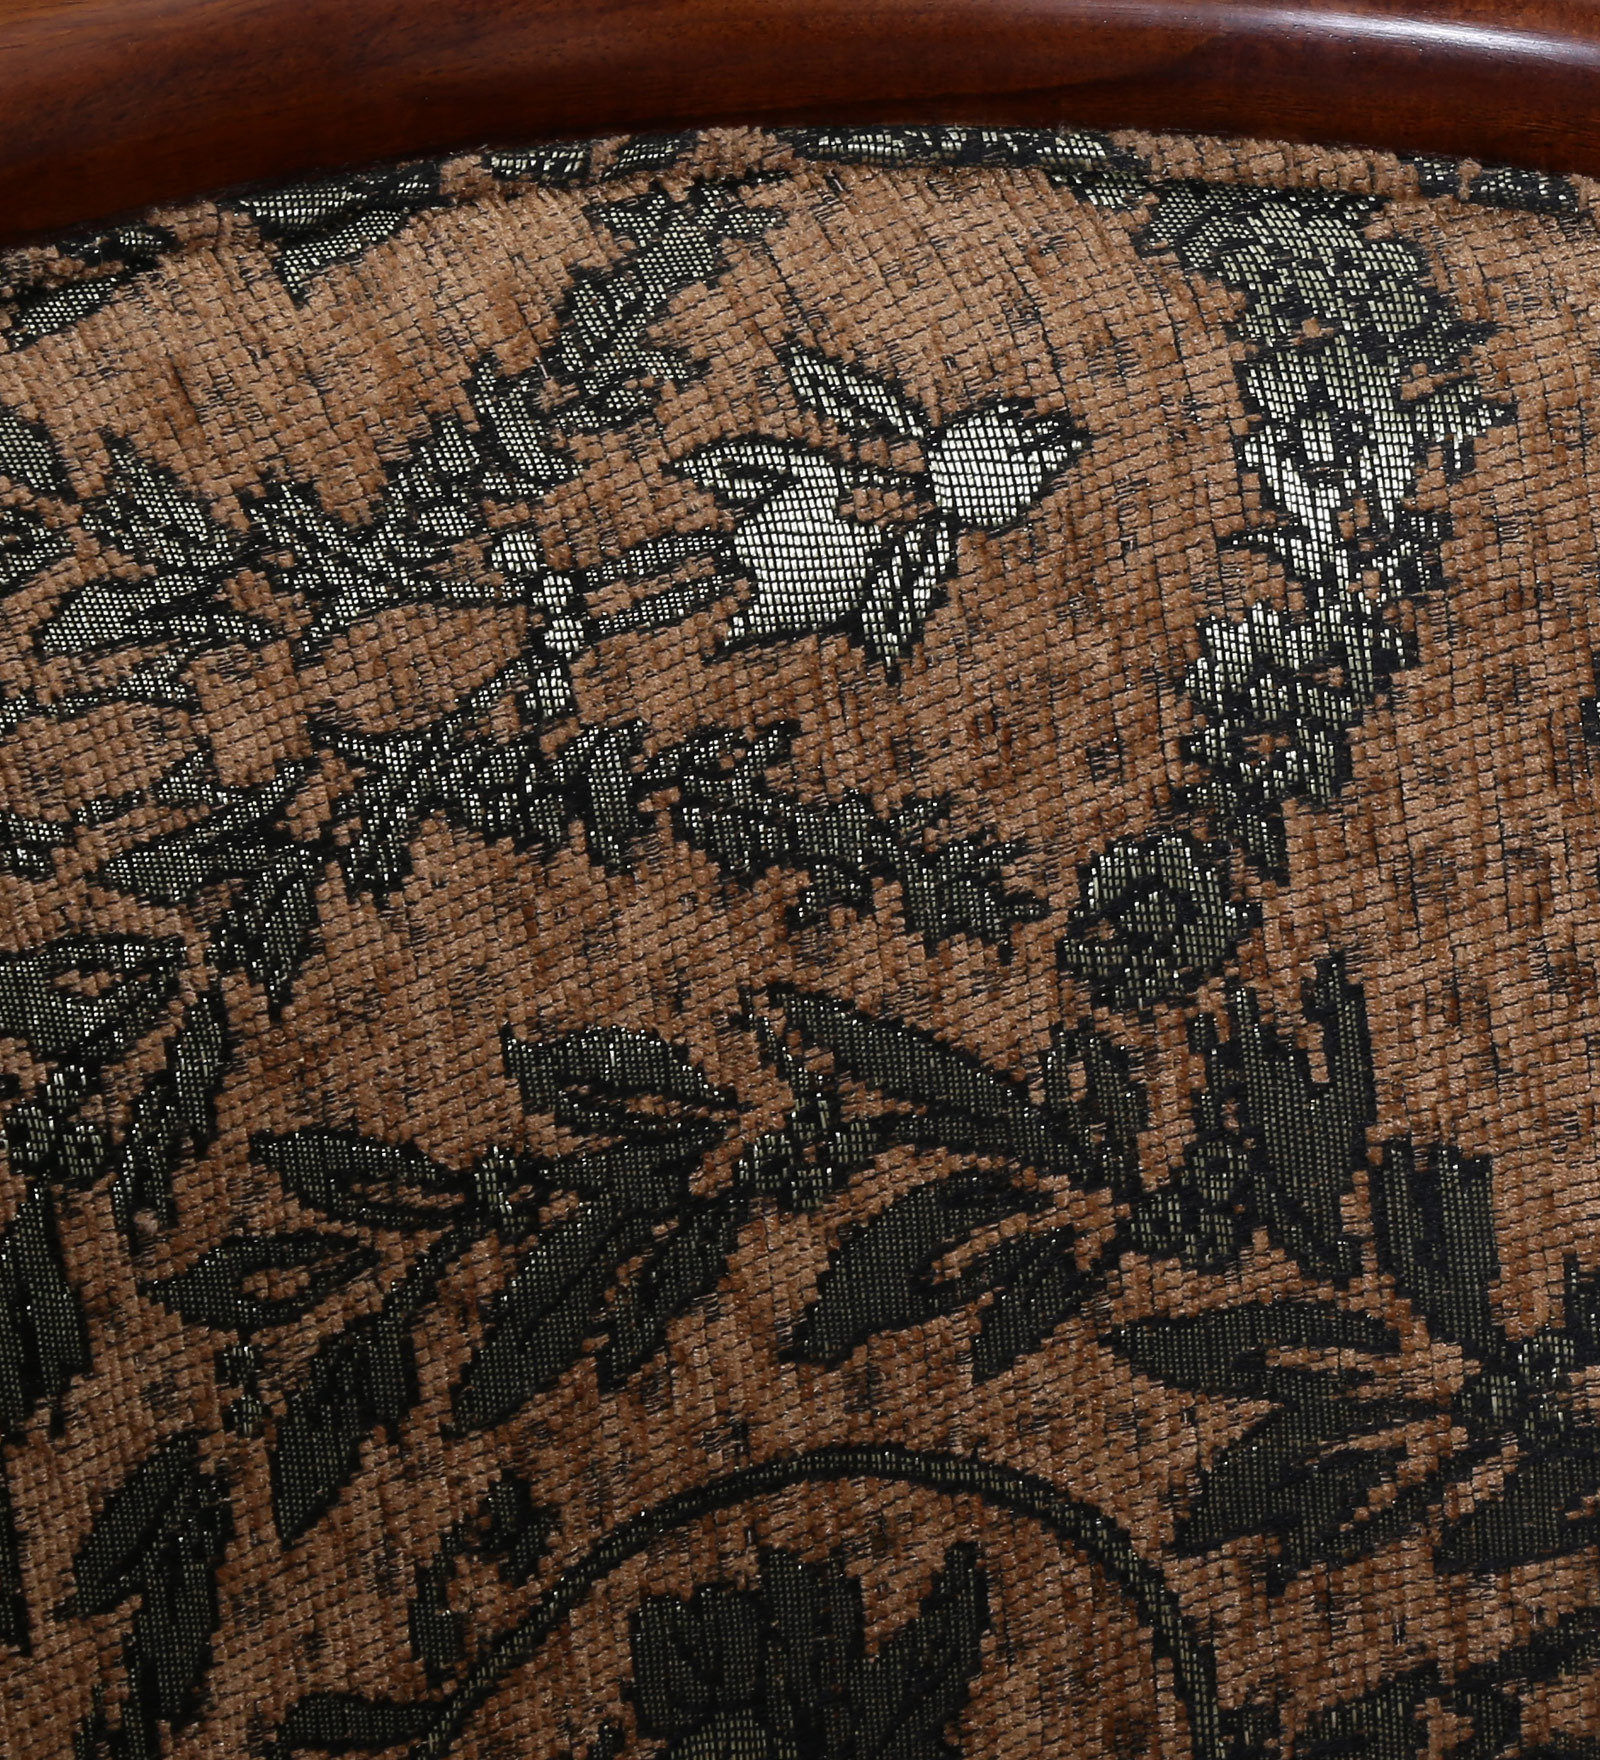Stalley Arm Chair in Honey Oak Finish by Amberville: (118, 215, 1407, 1691)
